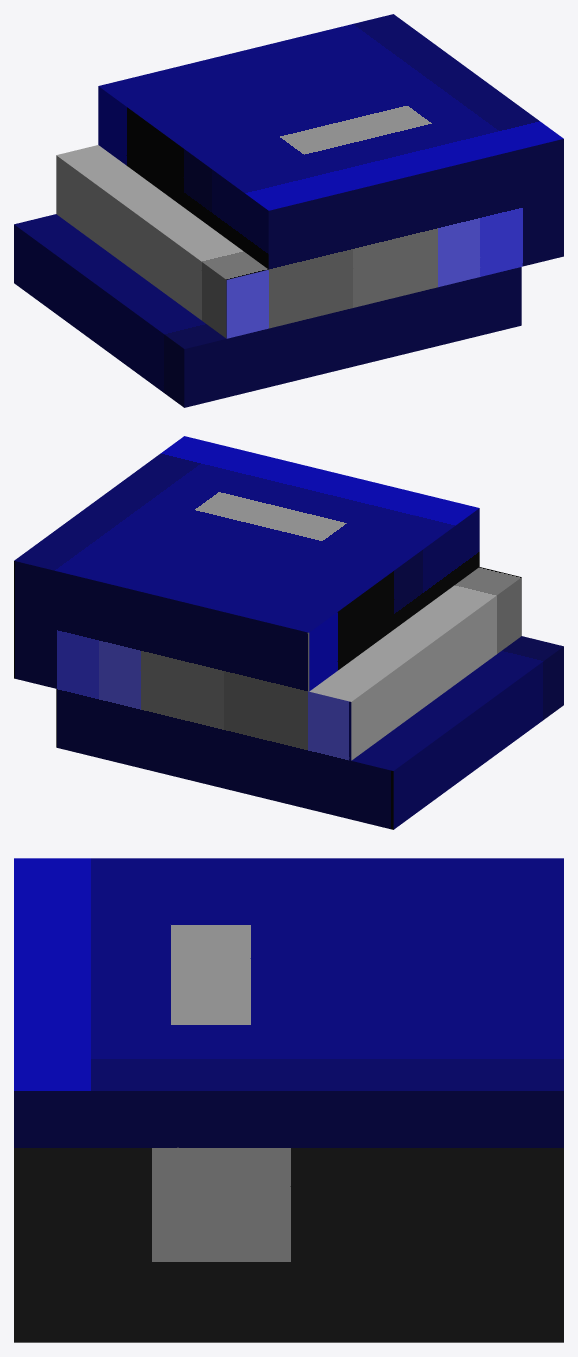
The model's file is book_0x282_25.glb.
3 views of the same model, one above another, from view 1: azimuth 30°, elevation 25°; view 2: azimuth 150°, elevation 25°; view 3: azimuth 270°, elevation 25° (orthographic). The views are drawn at different scales.
Visible parts, largest first — view 1: Cube; view 2: Cube; view 3: Cube.
Boxes of the visible parts, <box> form: Cube: <box>14,14,563,407</box>; Cube: <box>14,436,563,829</box>; Cube: <box>14,858,563,1342</box>.
Size of the model in its own units: 0.5625 by 0.25 by 0.4375.
Materials: 1 (1 with a texture image).
